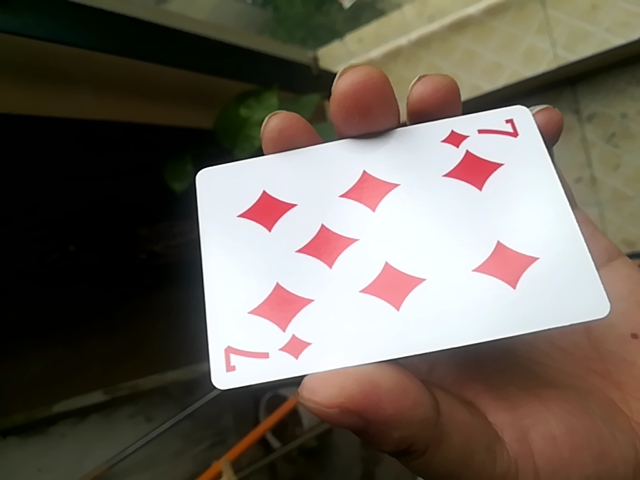fk 7: (188, 100, 621, 396)
